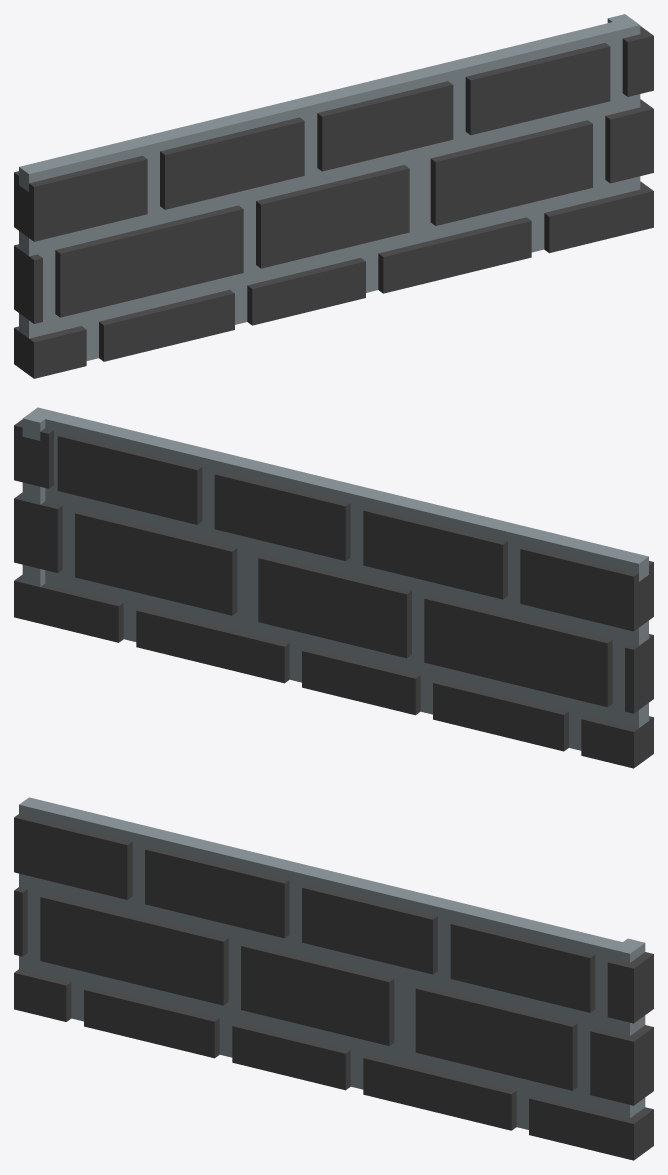
Rendered from wallb.obj.
3 views of the same model, one above another, from view 1: azimuth 30°, elevation 25°; view 2: azimuth 150°, elevation 25°; view 3: azimuth 330°, elevation 25° (orthographic).
Bounding box in the file's own units: 7.1 × 2.2 × 0.4.
Materials: 1 (1 with a texture image).
